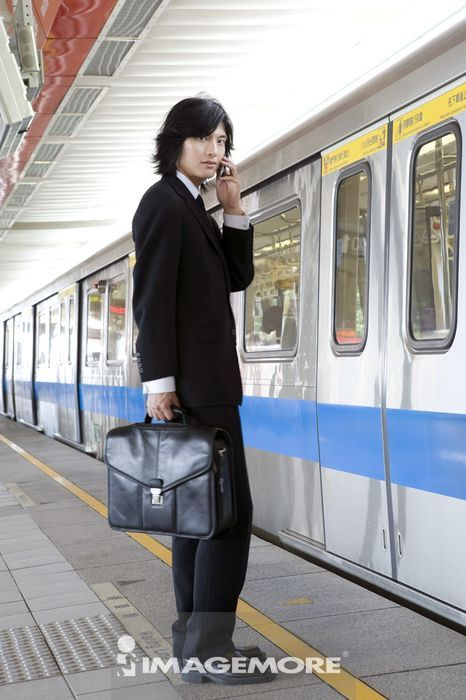talk: (189, 125, 241, 212)
